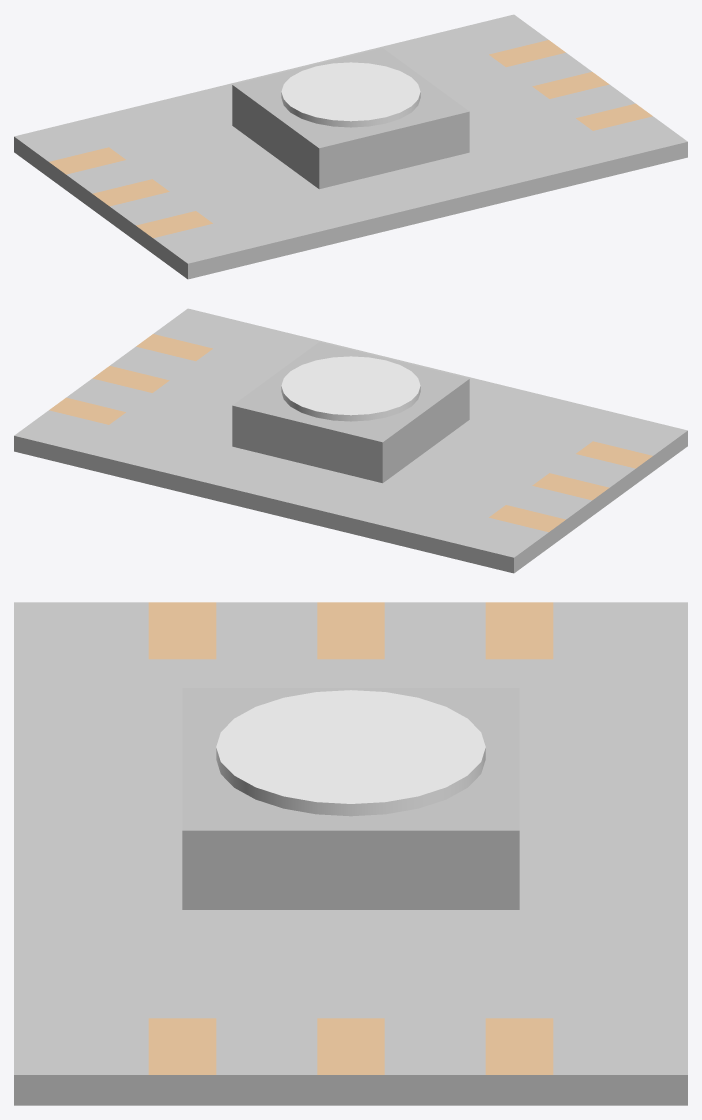
The model's file is WS2812B-STRIP-60PM-SEGMENT-3DWAREHOUSE.glb.
The picture shows the model from 3 angles, top to bottom: view 1: azimuth 30°, elevation 25°; view 2: azimuth 150°, elevation 25°; view 3: azimuth 270°, elevation 25°; orthographic projection. The views are drawn at different scales.
Bounding box in the file's own units: 0.0166 × 0.002 × 0.01.
